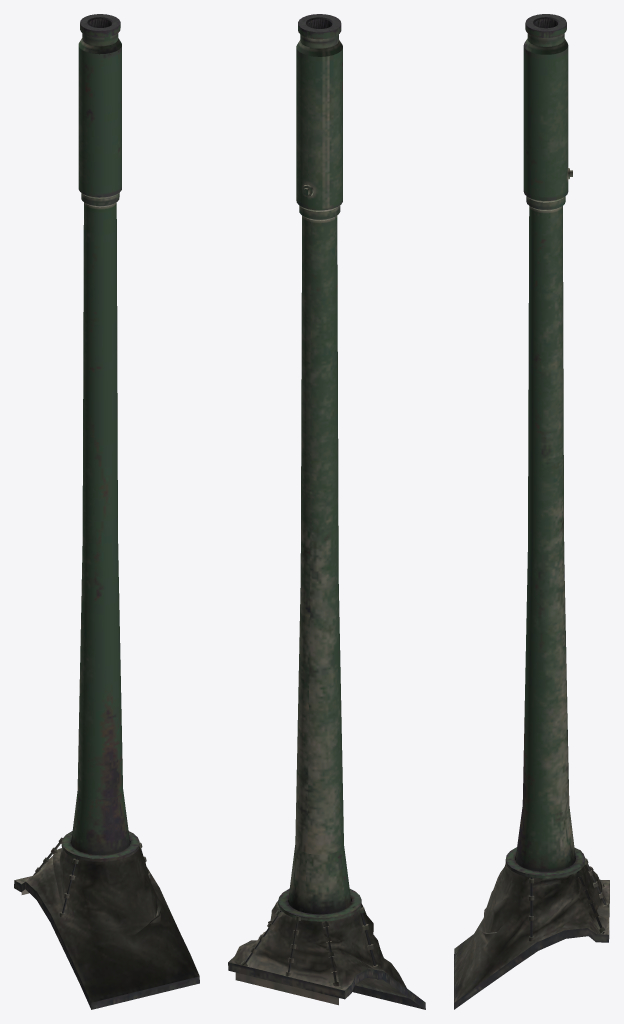
Rendered from Gun_04.glb.
The picture shows the model from 3 angles, left to right: view 1: azimuth 30°, elevation 25°; view 2: azimuth 150°, elevation 25°; view 3: azimuth 270°, elevation 25°; orthographic projection. The views are drawn at different scales.
Visible parts, largest first — view 1: set_0_group_0; view 2: set_0_group_0; view 3: set_0_group_0.
Boxes of the visible parts, x1=… form: set_0_group_0: x1=14, y1=14, x2=199, y2=1009; set_0_group_0: x1=228, y1=14, x2=425, y2=1009; set_0_group_0: x1=454, y1=14, x2=609, y2=1009.
Size of the model in its own units: 0.536 by 4.4 by 0.6467.
1 material, 1 textured.
